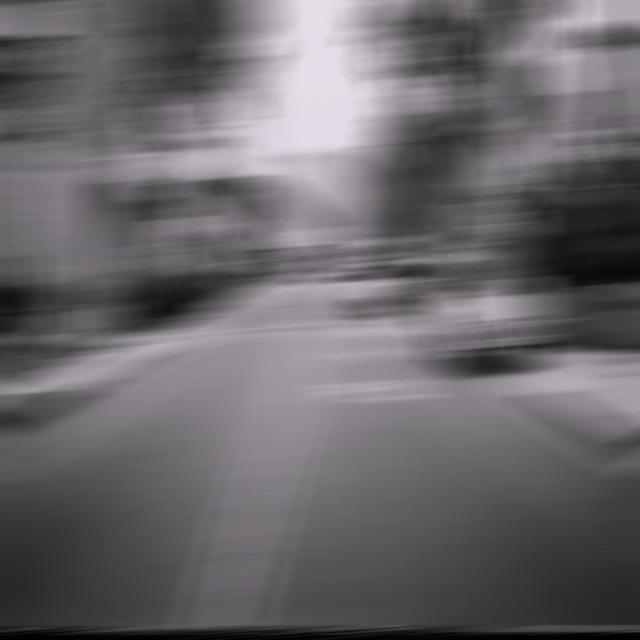pedestrianCrossing: (493, 149, 545, 208)
